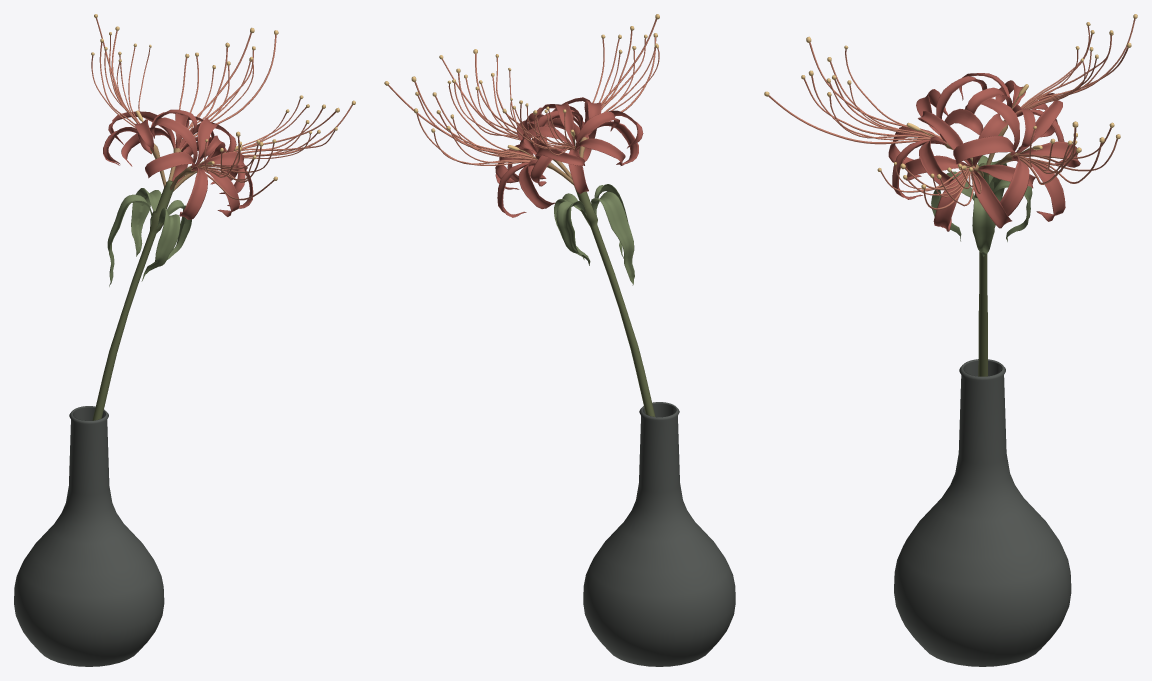
The model's file is C2_Vase.fbx.
3 views of the same model, side by side, from view 1: azimuth 30°, elevation 25°; view 2: azimuth 150°, elevation 25°; view 3: azimuth 270°, elevation 25° (orthographic). The views are drawn at different scales.
Visible parts, largest first — view 1: group1_group2_pCylinder51; view 2: group1_group2_pCylinder51; view 3: group1_group2_pCylinder51.
Boxes of the visible parts, bbox=[...] form: group1_group2_pCylinder51: bbox=[14, 14, 355, 666]; group1_group2_pCylinder51: bbox=[384, 14, 735, 666]; group1_group2_pCylinder51: bbox=[764, 14, 1137, 666].
Size of the model in its own units: 2.93 by 5.25 by 2.62.
